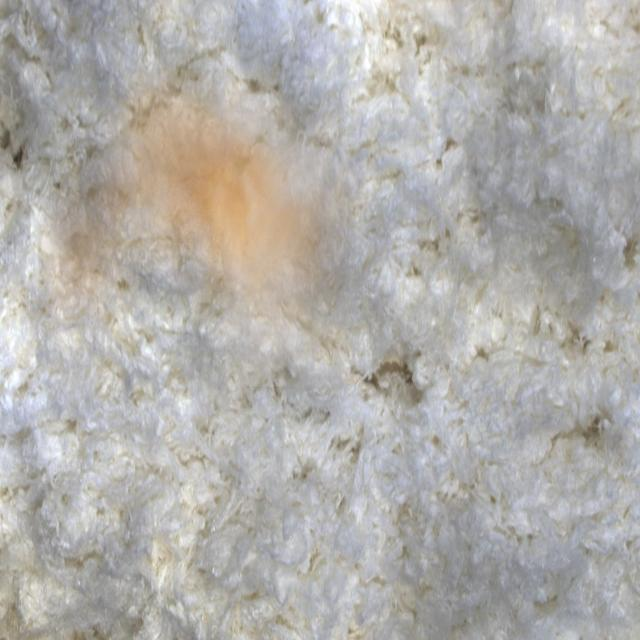dust: (39, 69, 369, 387)
